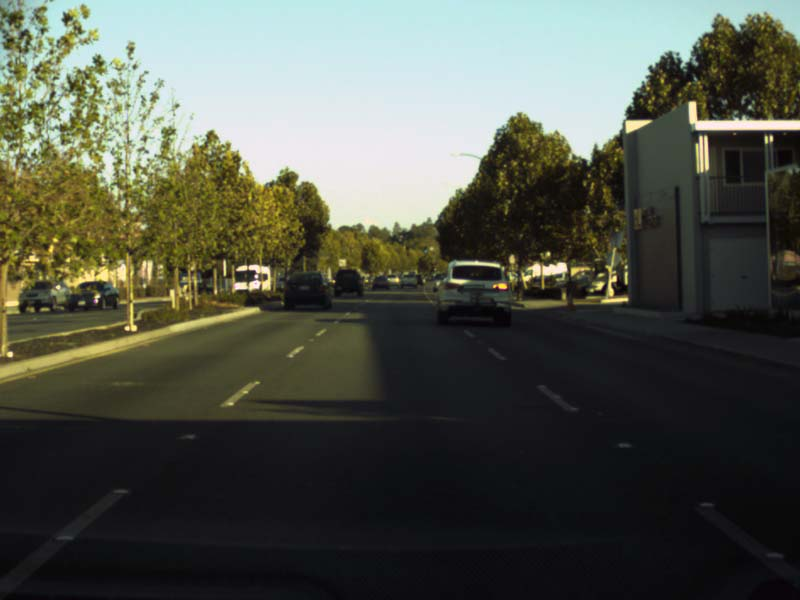Green: (423, 245, 428, 253)
